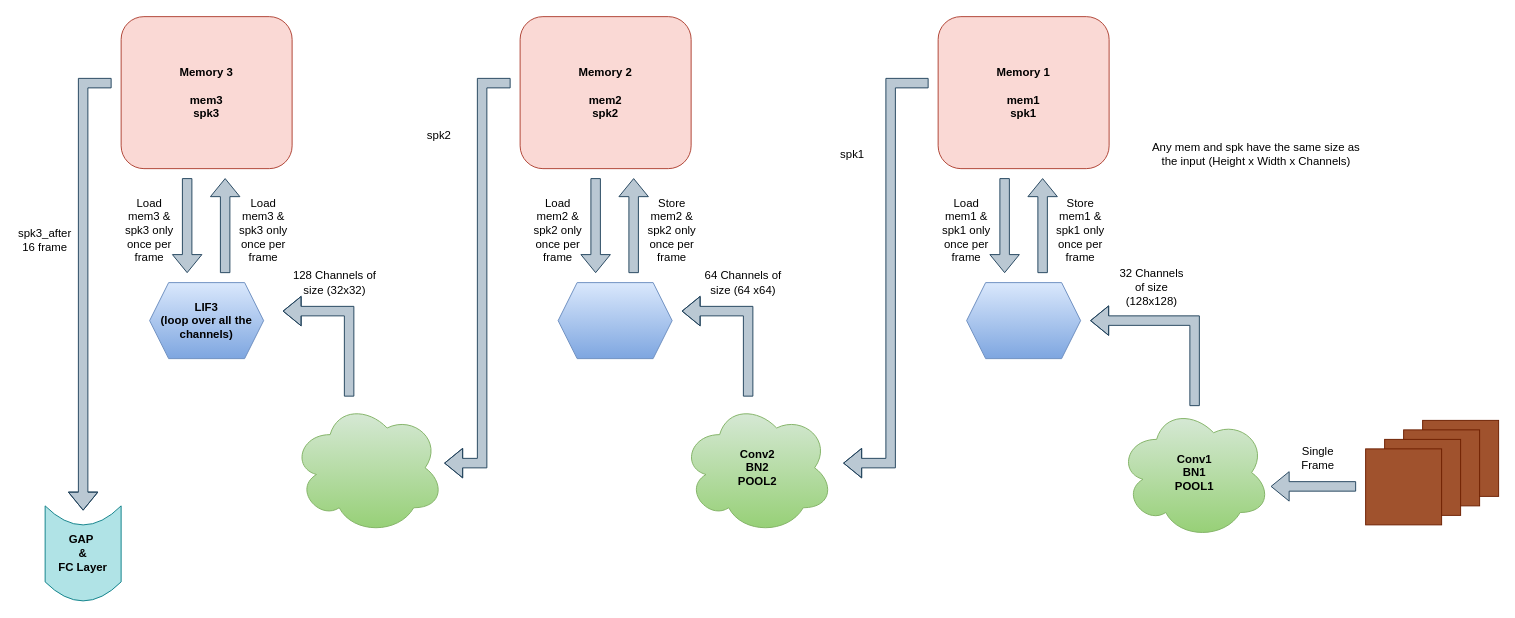
The diagram is 1515 pixels wide and 618 high, and some of its shapes have lost their labels. Here are the shapes that lost their labels. From the top down, the box of each, then its label:
(557, 282, 672, 359): LIF2 (loop over all the channels)
(966, 282, 1081, 359): LIF1 (loop over all the channels)
(291, 400, 444, 534): Conv3 BN3 POOL3
(1365, 448, 1442, 525): Frame 1:16
